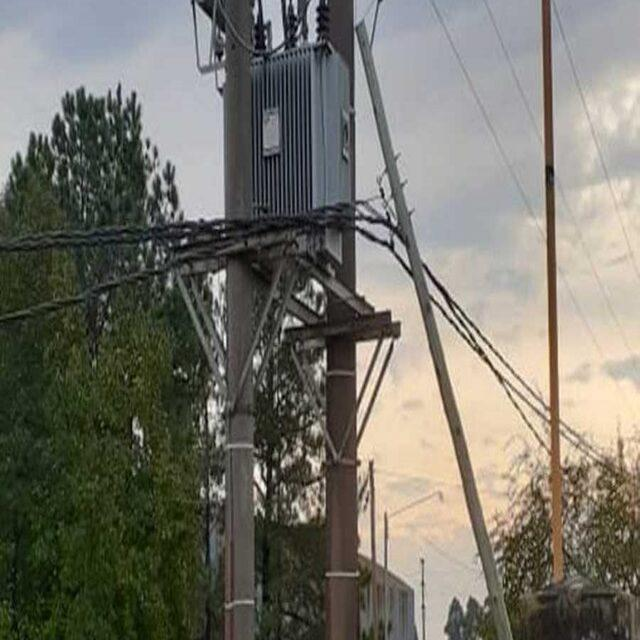Inclined Pole: (353, 17, 513, 640)
